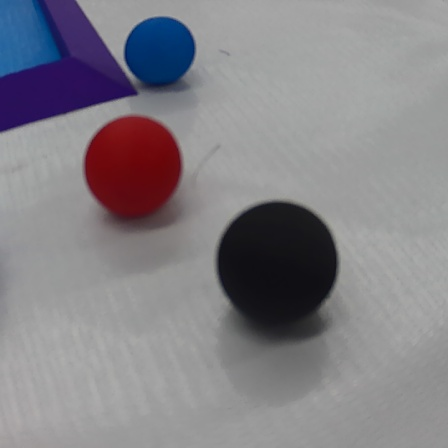black: (208, 192, 350, 339)
blue: (122, 12, 201, 92)
blue_aim: (0, 0, 145, 139)
red: (82, 117, 189, 219)
